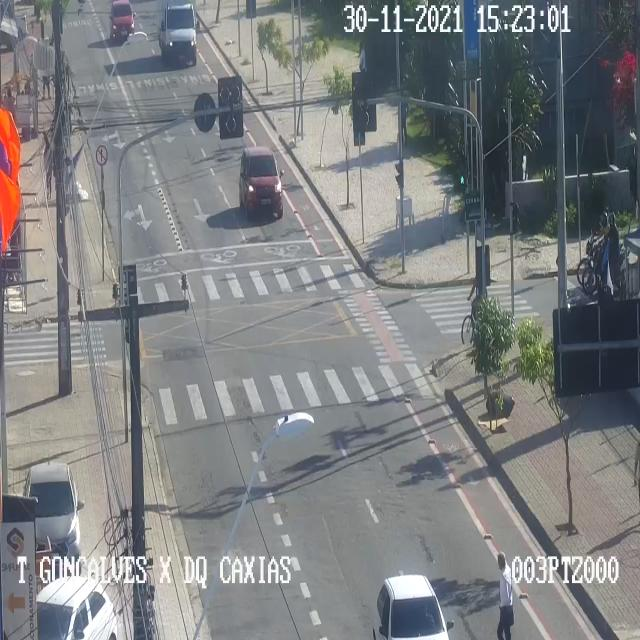Car: (24, 460, 84, 566), (371, 574, 453, 639), (36, 576, 117, 639), (239, 146, 283, 218), (156, 0, 202, 63), (109, 1, 137, 42)
Motorcycle: (582, 214, 630, 297), (576, 212, 630, 282)
